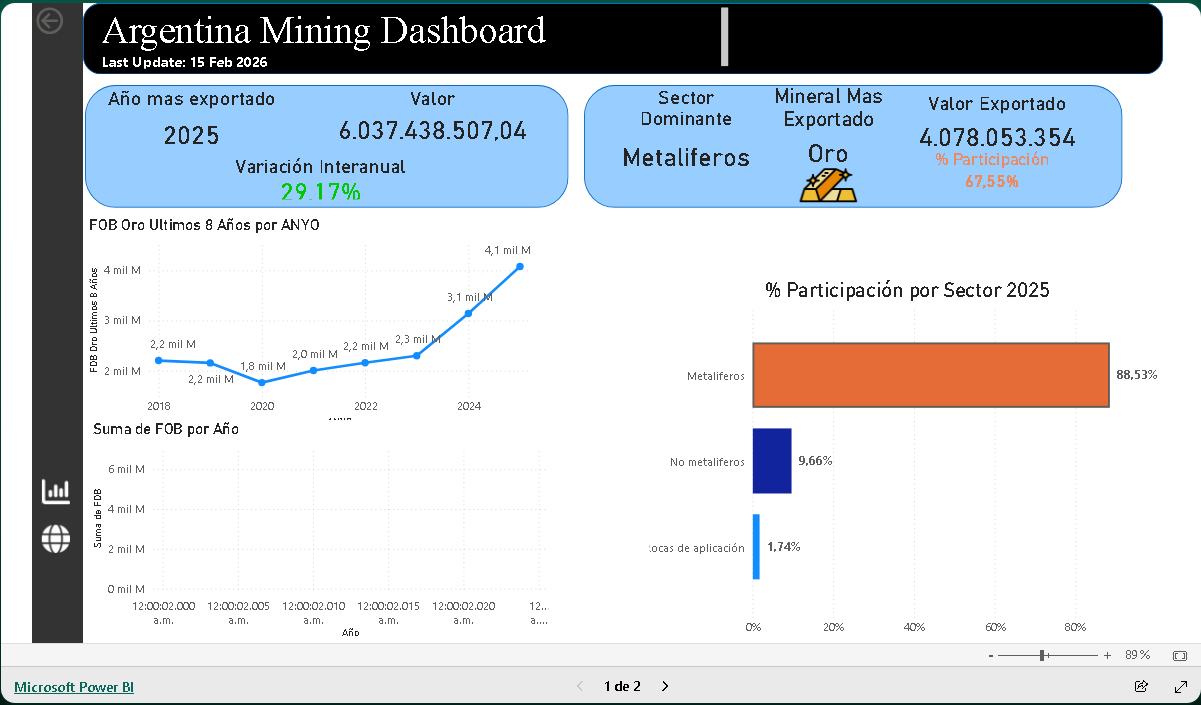

What the dashboard file says about the page in this screenshot:
{"tool":"powerbi","page":{"name":"Home","canvas":[1280,720],"ordinal":0},"visuals":[{"type":"shape","box":[0,0,57.5,720],"z":0},{"type":"shape","box":[621.5,92.1,605.7,138.1],"z":1000},{"type":"group","id":"g1","title":"Navigation Buttons","box":[7.1,530,57.1,92.9],"z":2000},{"type":"actionButton","box":[7.1,530,57.1,40],"z":2000,"group":"g1"},{"type":"card","title":"Sector Dominante","fields":{"Values":["Indicadores.Sector Dominante"]},"box":[649.4,93.1,174.3,107.1],"z":3000},{"type":"actionButton","box":[7.1,582.9,57.1,40],"z":3000,"group":"g1"},{"type":"card","title":"Mineral Mas Exportado","fields":{"Values":["Indicadores.Mineral Dominante"]},"box":[809.5,91.5,171.4,98],"z":4000},{"type":"shape","box":[59.4,92.1,543.9,138.1],"z":5000},{"type":"card","title":"Año mas exportado","fields":{"Values":["Indicadores.Año Maximo Historico"]},"box":[64.3,94.3,231.4,80],"z":6000},{"type":"card","title":"Valor","fields":{"Values":["Indicadores.Año Maximo Historico FOB"]},"box":[331.3,94.1,239.8,69.6],"z":7000},{"type":"shape","box":[57,0,1215.1,80.2],"z":8000},{"type":"textbox","box":[74.4,0,714,79.1],"z":9000},{"type":"card","title":"Valor Exportado","fields":{"Values":["Indicadores.FOB Mineral Dominante"]},"box":[969.8,100,232.6,74.4],"z":10000},{"type":"card","title":"% Participación","fields":{"Values":["Indicadores.% Participacion Mineral"]},"box":[969.8,164,220.9,51.2],"z":11000},{"type":"actionButton","box":[0,0,100,40],"z":12000},{"type":"card","title":"Variación Interanual","fields":{"Values":["Indicadores.Variacion YoY"]},"box":[204.7,171.4,239.2,55],"z":13000},{"type":"image","box":[858.5,171.4,74.8,68.3],"z":14000},{"type":"barChart","title":"% Participación por Sector 2025","fields":{"Category":["Exportaciones.SECTOR"],"Y":["Indicadores.% Participación Sector Top 3"]},"box":[690,308.9,590,411.1],"z":15000},{"type":"lineChart","fields":{"Y":["Indicadores.FOB Oro Ultimos 10 Años"],"Category":["Exportaciones.ANYO"]},"box":[59.4,239.9,506.4,242.3],"z":17000},{"type":"lineChart","fields":{"Y":["Sum(Exportaciones.FOB)"],"Category":["Calendario.Date.Variación.Jerarquía de fechas.Año","Calendario.Date.Variación.Jerarquía de fechas.Trimestre","Calendario.Date.Variación.Jerarquía de fechas.Mes"]},"box":[64,469.5,521.9,250.7],"z":18000}]}

Visuals, with their boxes on the page's 1280x720 design canvas (x1, y1, x2, y2). These are canvas units, not pixel positions in the 1201x705 screenshot, which may show the page scaled, cropped or inside an application window:
shape: (left=0, top=0, right=58, bottom=720)
shape: (left=622, top=92, right=1227, bottom=230)
"Navigation Buttons" group: (left=7, top=530, right=64, bottom=623)
actionButton: (left=7, top=530, right=64, bottom=570)
"Sector Dominante" card: (left=649, top=93, right=824, bottom=200)
actionButton: (left=7, top=583, right=64, bottom=623)
"Mineral Mas Exportado" card: (left=810, top=92, right=981, bottom=190)
shape: (left=59, top=92, right=603, bottom=230)
"Año mas exportado" card: (left=64, top=94, right=296, bottom=174)
"Valor" card: (left=331, top=94, right=571, bottom=164)
shape: (left=57, top=0, right=1272, bottom=80)
textbox: (left=74, top=0, right=788, bottom=79)
"Valor Exportado" card: (left=970, top=100, right=1202, bottom=174)
"% Participación" card: (left=970, top=164, right=1191, bottom=215)
actionButton: (left=0, top=0, right=100, bottom=40)
"Variación Interanual" card: (left=205, top=171, right=444, bottom=226)
image: (left=858, top=171, right=933, bottom=240)
"% Participación por Sector 2025" barChart: (left=690, top=309, right=1280, bottom=720)
lineChart - Indicadores.FOB Oro Ultimos 10 Años x Exportaciones.ANYO: (left=59, top=240, right=566, bottom=482)
lineChart - Sum(Exportaciones.FOB) x Calendario.Date.Variación.Jerarquía de fechas.Año: (left=64, top=470, right=586, bottom=720)
